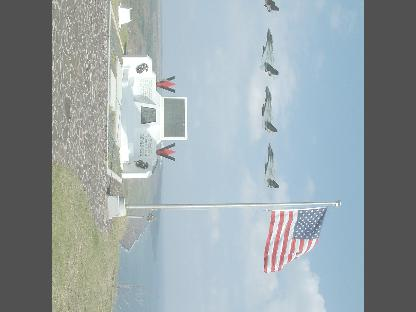EF2000: (260, 27, 280, 79), (262, 83, 278, 135), (264, 142, 280, 191), (262, 0, 281, 18)
